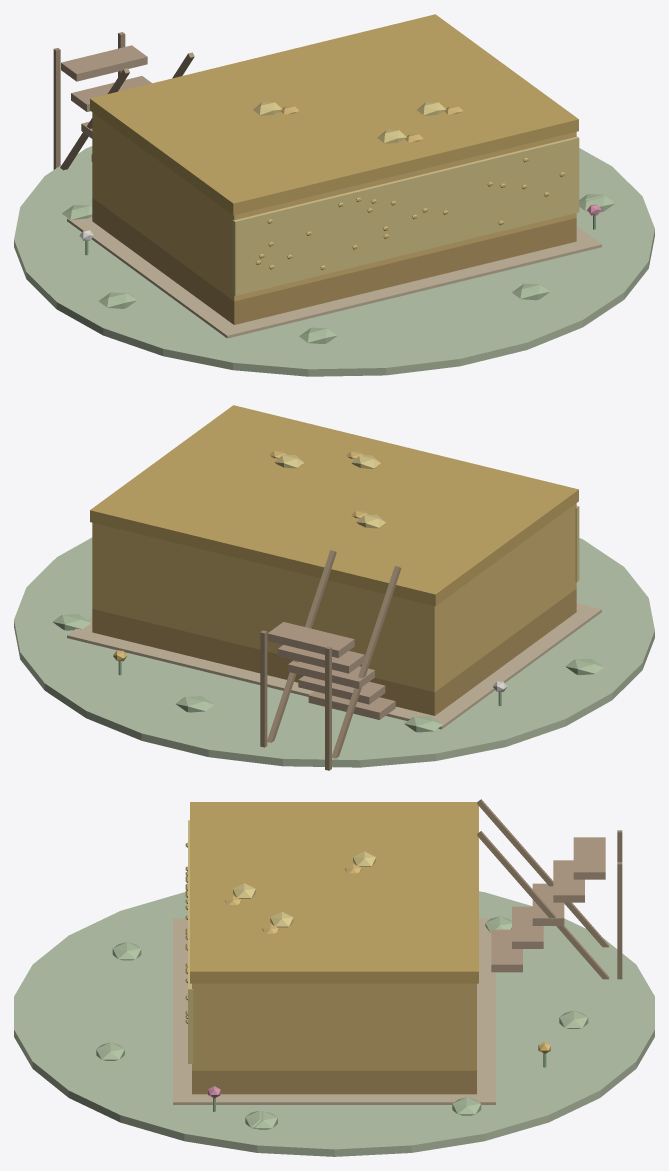
File: castella.glb
3 views of the same model, one above another, from view 1: azimuth 30°, elevation 25°; view 2: azimuth 150°, elevation 25°; view 3: azimuth 270°, elevation 25° (orthographic).
Visible parts, largest first — view 1: part_06, part_05, part_12, part_10, part_03, part_07, part_04, part_02, part_01, part_08; view 2: part_06, part_05, part_10, part_03, part_07, part_04, part_01, part_02, part_12; view 3: part_05, part_06, part_10, part_07, part_03, part_04, part_01, part_02, part_12.
Part boxes in pixels (x1=…): part_06: x1=90, y1=14, x2=578, y2=215; part_05: x1=14, y1=146, x2=654, y2=376; part_12: x1=232, y1=102, x2=579, y2=296; part_10: x1=92, y1=106, x2=576, y2=301; part_03: x1=92, y1=198, x2=576, y2=324; part_07: x1=67, y1=217, x2=601, y2=338; part_04: x1=61, y1=45, x2=151, y2=161; part_02: x1=62, y1=194, x2=614, y2=343; part_01: x1=53, y1=32, x2=194, y2=170; part_08: x1=255, y1=158, x2=564, y2=269; part_06: x1=90, y1=405, x2=578, y2=606; part_05: x1=14, y1=537, x2=654, y2=767; part_10: x1=92, y1=450, x2=576, y2=692; part_03: x1=92, y1=589, x2=576, y2=715; part_07: x1=67, y1=603, x2=601, y2=729; part_04: x1=267, y1=622, x2=395, y2=719; part_01: x1=260, y1=550, x2=401, y2=770; part_02: x1=53, y1=614, x2=603, y2=732; part_12: x1=274, y1=454, x2=579, y2=582; part_05: x1=14, y1=891, x2=654, y2=1156; part_06: x1=190, y1=802, x2=478, y2=983; part_10: x1=192, y1=864, x2=476, y2=1070; part_07: x1=173, y1=918, x2=495, y2=1104; part_03: x1=192, y1=1070, x2=476, y2=1094; part_04: x1=491, y1=837, x2=605, y2=972; part_01: x1=477, y1=799, x2=622, y2=979; part_02: x1=96, y1=916, x2=588, y2=1129; part_12: x1=188, y1=820, x2=375, y2=1063.
Bounding box in the file's own units: 17.2 × 4.52 × 17.07.
